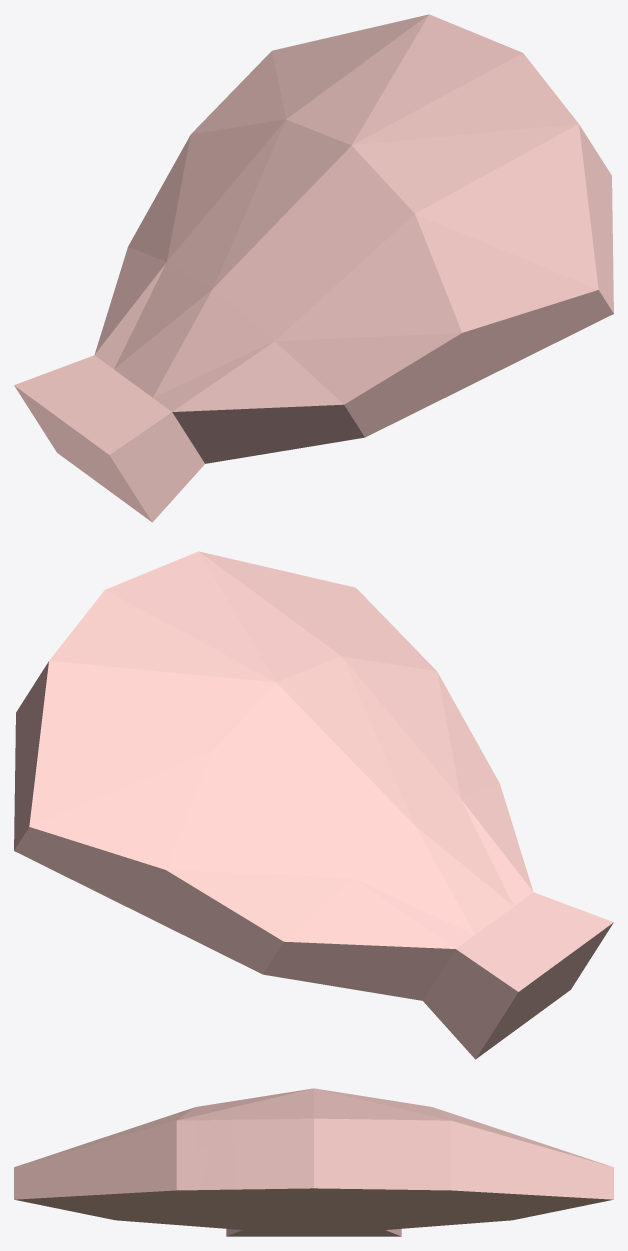
Rendered from shellfishUp.obj.
3 renders of one model, top to bottom at view 1: azimuth 30°, elevation 25°; view 2: azimuth 150°, elevation 25°; view 3: azimuth 270°, elevation 25°, orthographic. The views are drawn at different scales.
Visible parts, largest first — view 1: Cube.001; view 2: Cube.001; view 3: Cube.001.
Boxes of the visible parts, box(x1,y1,x2,y2) form: Cube.001: box(14, 14, 613, 522); Cube.001: box(14, 551, 613, 1059); Cube.001: box(14, 1088, 613, 1236).
Size of the model in its own units: 2.86 by 1.84 by 3.28.
1 material, 1 textured.
